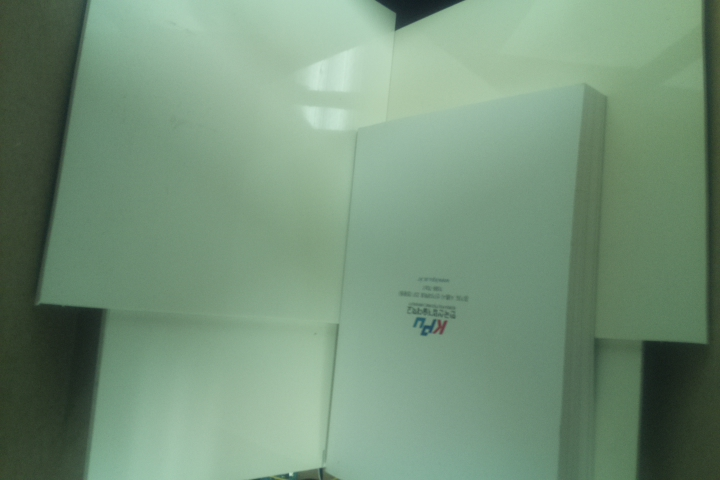book: (318, 82, 609, 480)
